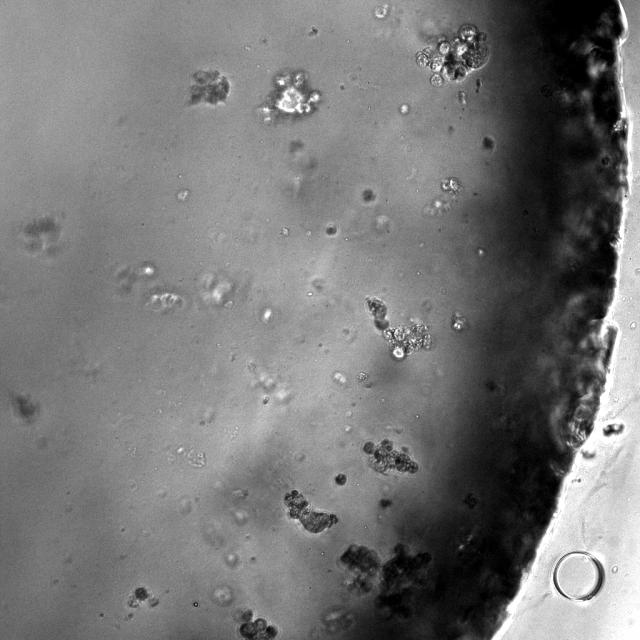organoid: (339, 544, 429, 616), (415, 24, 489, 88), (366, 296, 432, 358), (258, 70, 321, 123), (284, 490, 338, 534), (362, 438, 418, 473), (189, 69, 229, 105), (236, 609, 278, 639), (127, 585, 159, 608), (362, 188, 374, 202), (483, 136, 495, 149), (334, 473, 347, 485), (325, 224, 337, 235)
